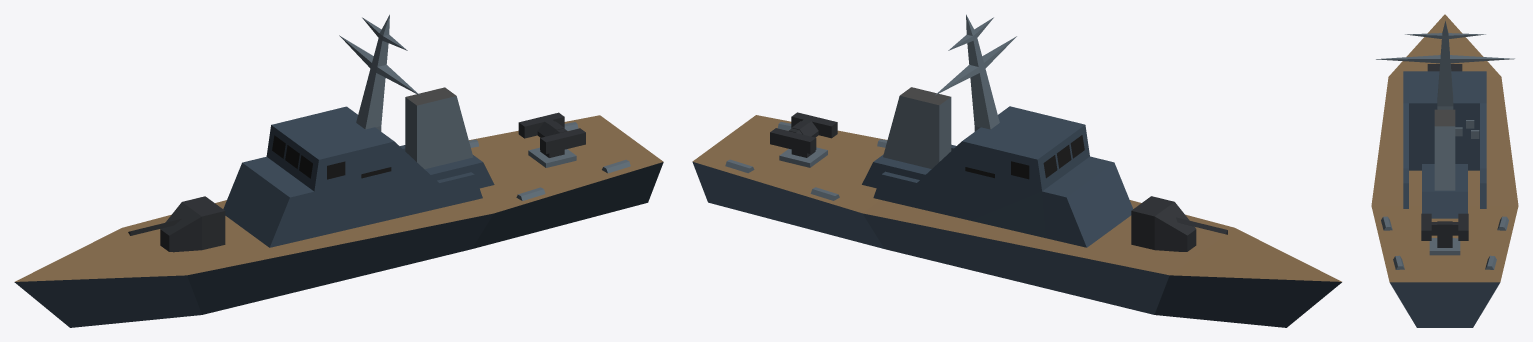
File: Shipboat1.fbx
3 views of the same model, side by side, from view 1: azimuth 30°, elevation 25°; view 2: azimuth 150°, elevation 25°; view 3: azimuth 270°, elevation 25° (orthographic). The views are drawn at different scales.
Visible parts, largest first — view 1: Ship_platform, Base, flue, Cube, Antena, Cube.001, Glass.001, BOX, Cube.002; view 2: Ship_platform, Base, flue, Cube, Antena, Cube.001, Glass.001, BOX, Cube.002; view 3: Ship_platform, Base, flue, Antena, Cube.001, BOX, Cube.002, Box, Cube.
Part boxes in pixels (left/top/right/bottom): Ship_platform: left=14, top=115, right=663, bottom=327; Base: left=223, top=106, right=482, bottom=247; flue: left=405, top=87, right=494, bottom=188; Cube: left=160, top=196, right=225, bottom=252; Antena: left=339, top=14, right=420, bottom=131; Cube.001: left=518, top=112, right=585, bottom=157; Glass.001: left=272, top=135, right=312, bottom=178; BOX: left=469, top=122, right=630, bottom=200; Cube.002: left=528, top=147, right=576, bottom=167; Ship_platform: left=692, top=115, right=1341, bottom=327; Base: left=873, top=106, right=1132, bottom=247; flue: left=862, top=87, right=951, bottom=188; Cube: left=1131, top=196, right=1196, bottom=251; Antena: left=935, top=14, right=1016, bottom=131; Cube.001: left=770, top=112, right=837, bottom=157; Glass.001: left=1043, top=135, right=1084, bottom=178; BOX: left=725, top=122, right=887, bottom=200; Cube.002: left=779, top=147, right=827, bottom=167; Ship_platform: left=1371, top=14, right=1518, bottom=327; Base: left=1403, top=71, right=1486, bottom=208; flue: left=1422, top=109, right=1467, bottom=218; Antena: left=1376, top=21, right=1514, bottom=109; Cube.001: left=1421, top=213, right=1468, bottom=247; BOX: left=1381, top=216, right=1508, bottom=269; Cube.002: left=1429, top=238, right=1460, bottom=255; Box: left=1455, top=120, right=1479, bottom=138; Cube: left=1427, top=64, right=1462, bottom=71.
Bounding box in the file's own units: 1832 × 668 × 435.
